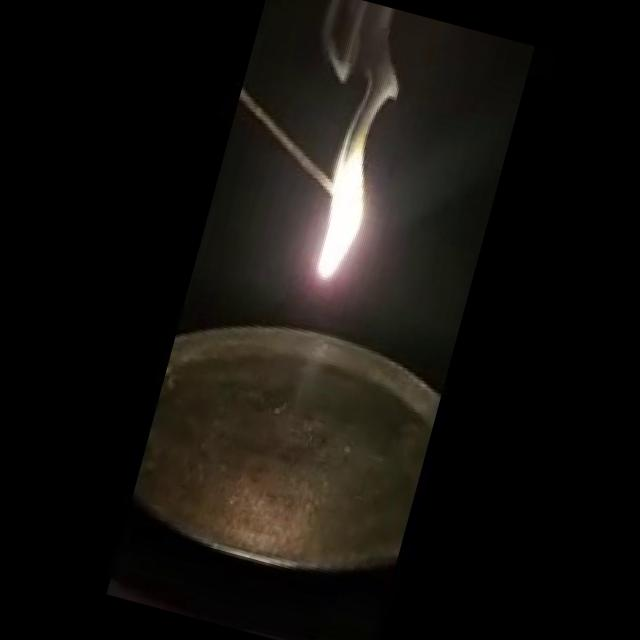Fire: (294, 100, 401, 295)
